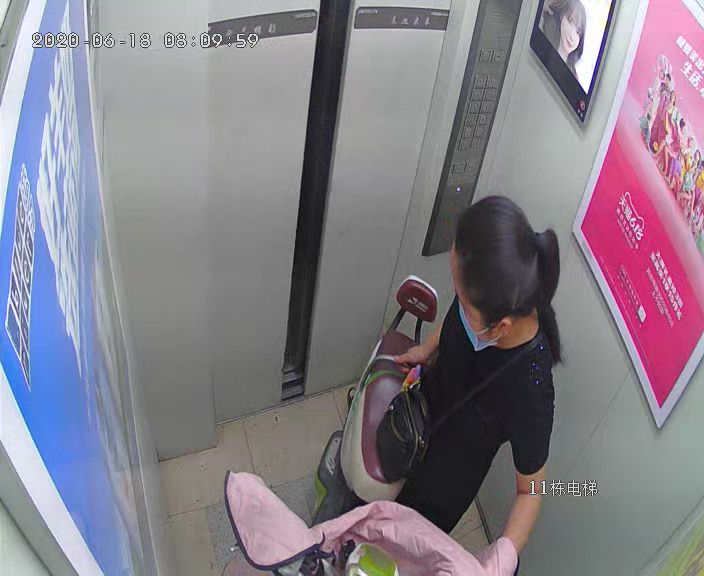Electric-bicycle: (224, 273, 438, 576)
